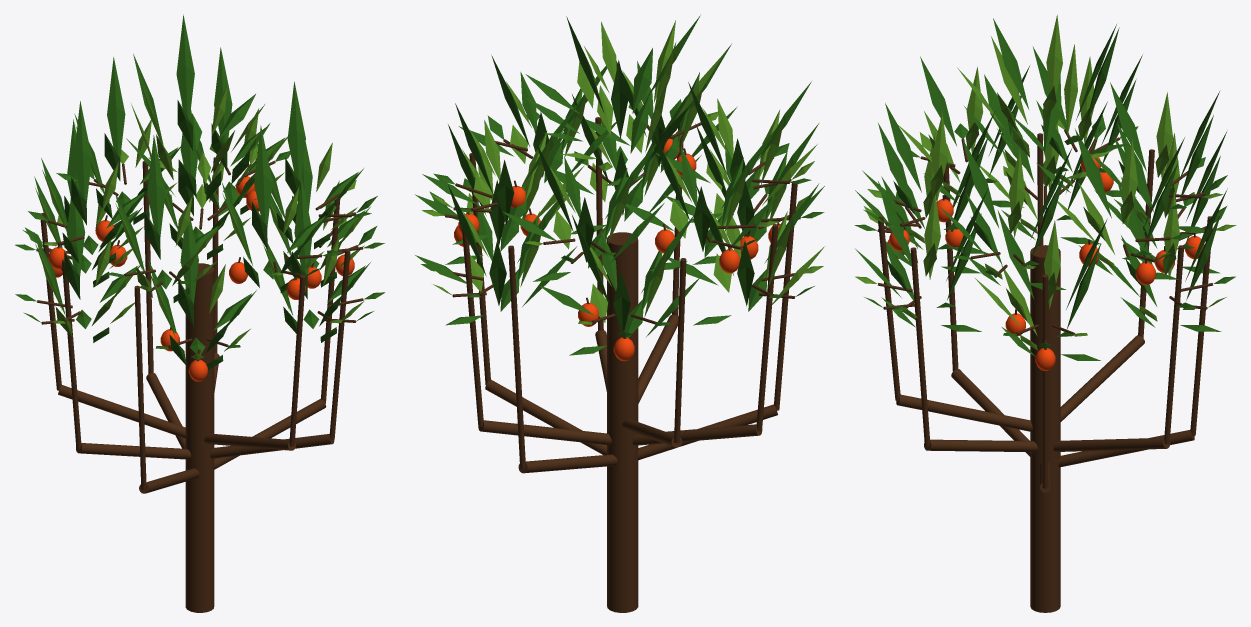
Rendered from Datolyaszilvafa.obj.
3 views of the same model, side by side, from view 1: azimuth 30°, elevation 25°; view 2: azimuth 150°, elevation 25°; view 3: azimuth 270°, elevation 25° (orthographic). The views are drawn at different scales.
Bounding box in the file's own units: 2.71 × 4.09 × 2.39.
